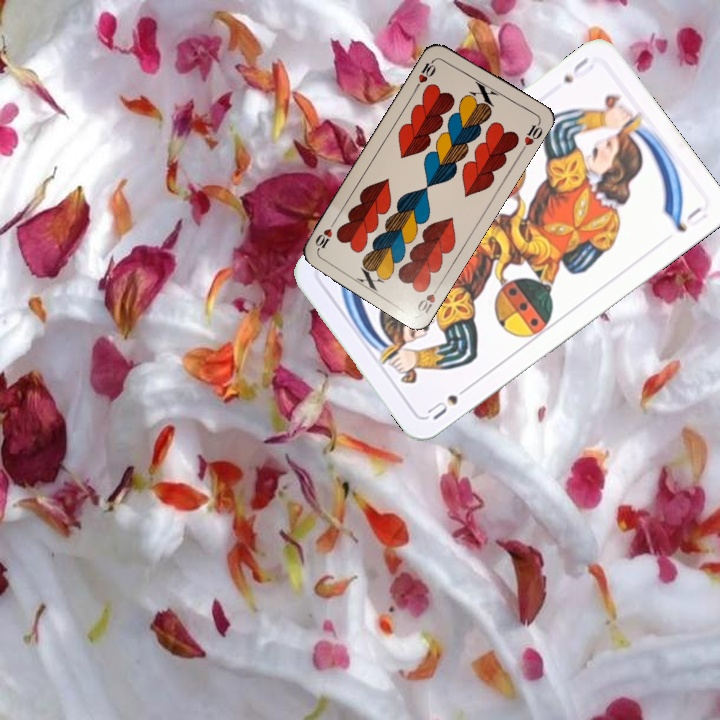H10: (413, 279, 444, 317), (412, 55, 439, 91)
SU: (423, 380, 474, 423), (559, 53, 597, 86)
